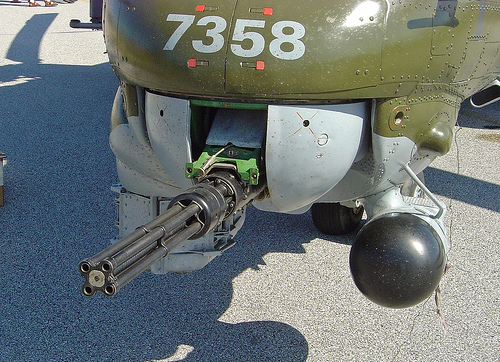rifle in hand: (79, 150, 254, 303)
